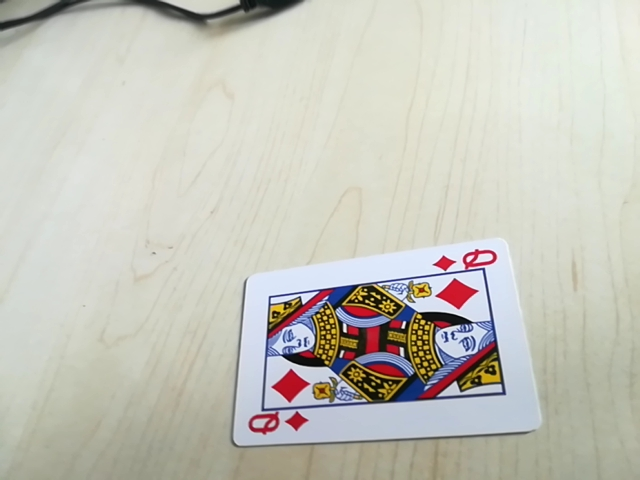fk q: (430, 243, 500, 275), (243, 407, 308, 441)
